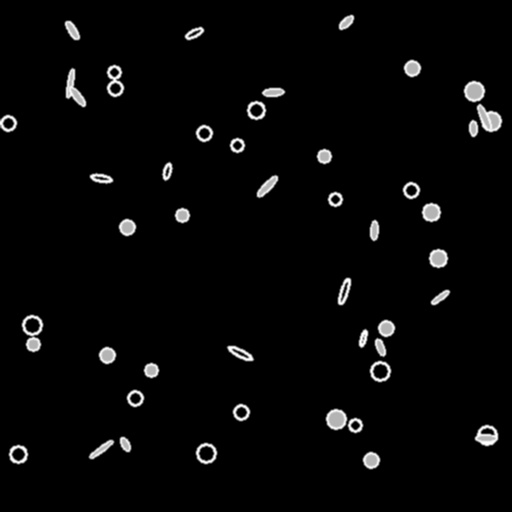pseudomonas: (88, 439, 114, 459), (226, 344, 254, 362), (256, 175, 278, 197), (476, 103, 492, 131), (67, 85, 87, 107), (63, 19, 81, 41), (337, 278, 351, 304), (430, 289, 450, 305), (184, 26, 204, 40), (65, 69, 75, 97), (338, 14, 354, 30), (374, 338, 386, 356), (91, 173, 111, 183), (119, 436, 131, 452), (162, 162, 172, 180), (358, 329, 368, 347), (263, 88, 283, 96), (475, 435, 497, 441), (371, 221, 377, 239), (470, 120, 476, 136)
synechocystis: (482, 112, 500, 130), (478, 426, 496, 444), (197, 444, 215, 462), (327, 410, 345, 428), (23, 316, 41, 334), (465, 82, 483, 100), (371, 362, 389, 380), (423, 204, 439, 220), (430, 250, 446, 266), (10, 446, 26, 462), (248, 102, 264, 118), (1, 116, 15, 130), (379, 321, 393, 335), (364, 453, 378, 467), (120, 220, 134, 234), (404, 183, 418, 197), (405, 61, 419, 75), (100, 348, 114, 362), (128, 391, 142, 405), (108, 81, 122, 95), (197, 126, 211, 140), (234, 405, 248, 419), (176, 209, 188, 221), (231, 139, 243, 151), (145, 364, 157, 376), (329, 193, 341, 205), (27, 338, 39, 350), (318, 150, 330, 162), (349, 419, 361, 431), (108, 66, 120, 78)
